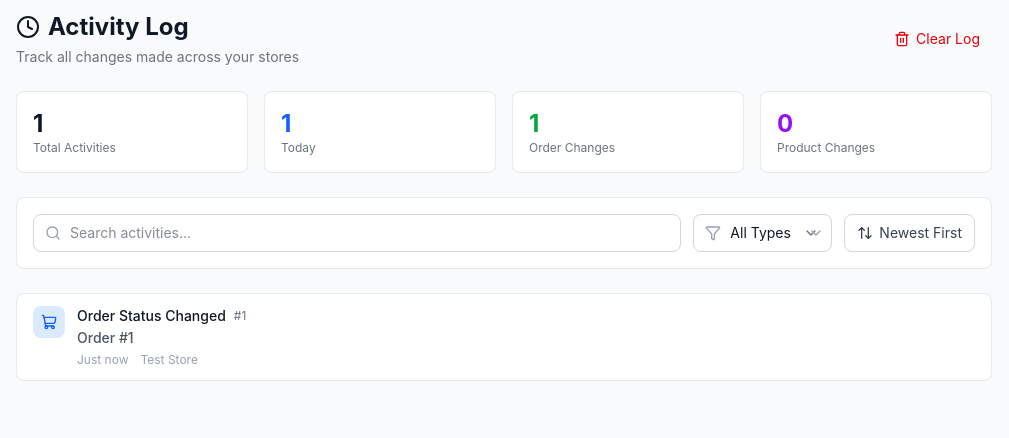
Test: ActivityLogPage › expanded changes › shows change details when entry is clicked
Click to expand
What coordinates should you click on to do the following:
click the text "Order Status Changed"
I would click on:
 (151, 316)
Its box is [77,306,226,326].
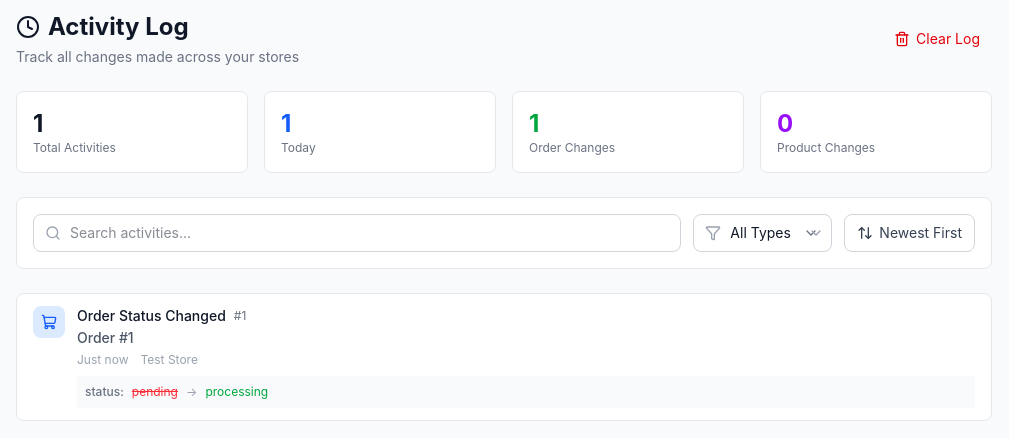
Now the text "status:" is shown, box [85,384,124,400]
Now the text "pending" is shown, box [132,384,178,400]
Now the text "processing" is shown, box [205,384,268,400]
